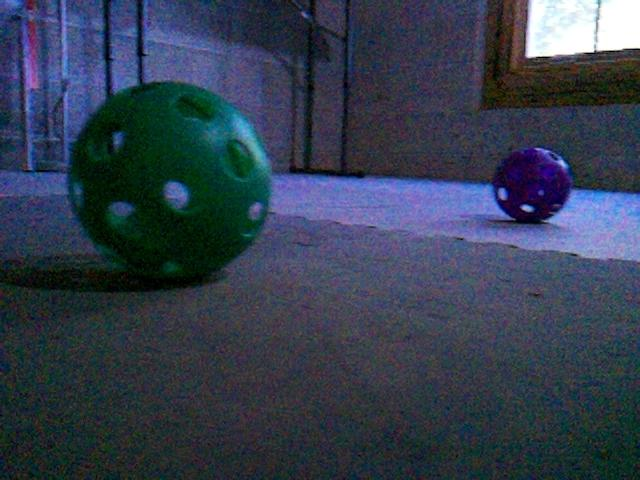Green: (69, 81, 275, 282)
Purple: (496, 150, 572, 224)
